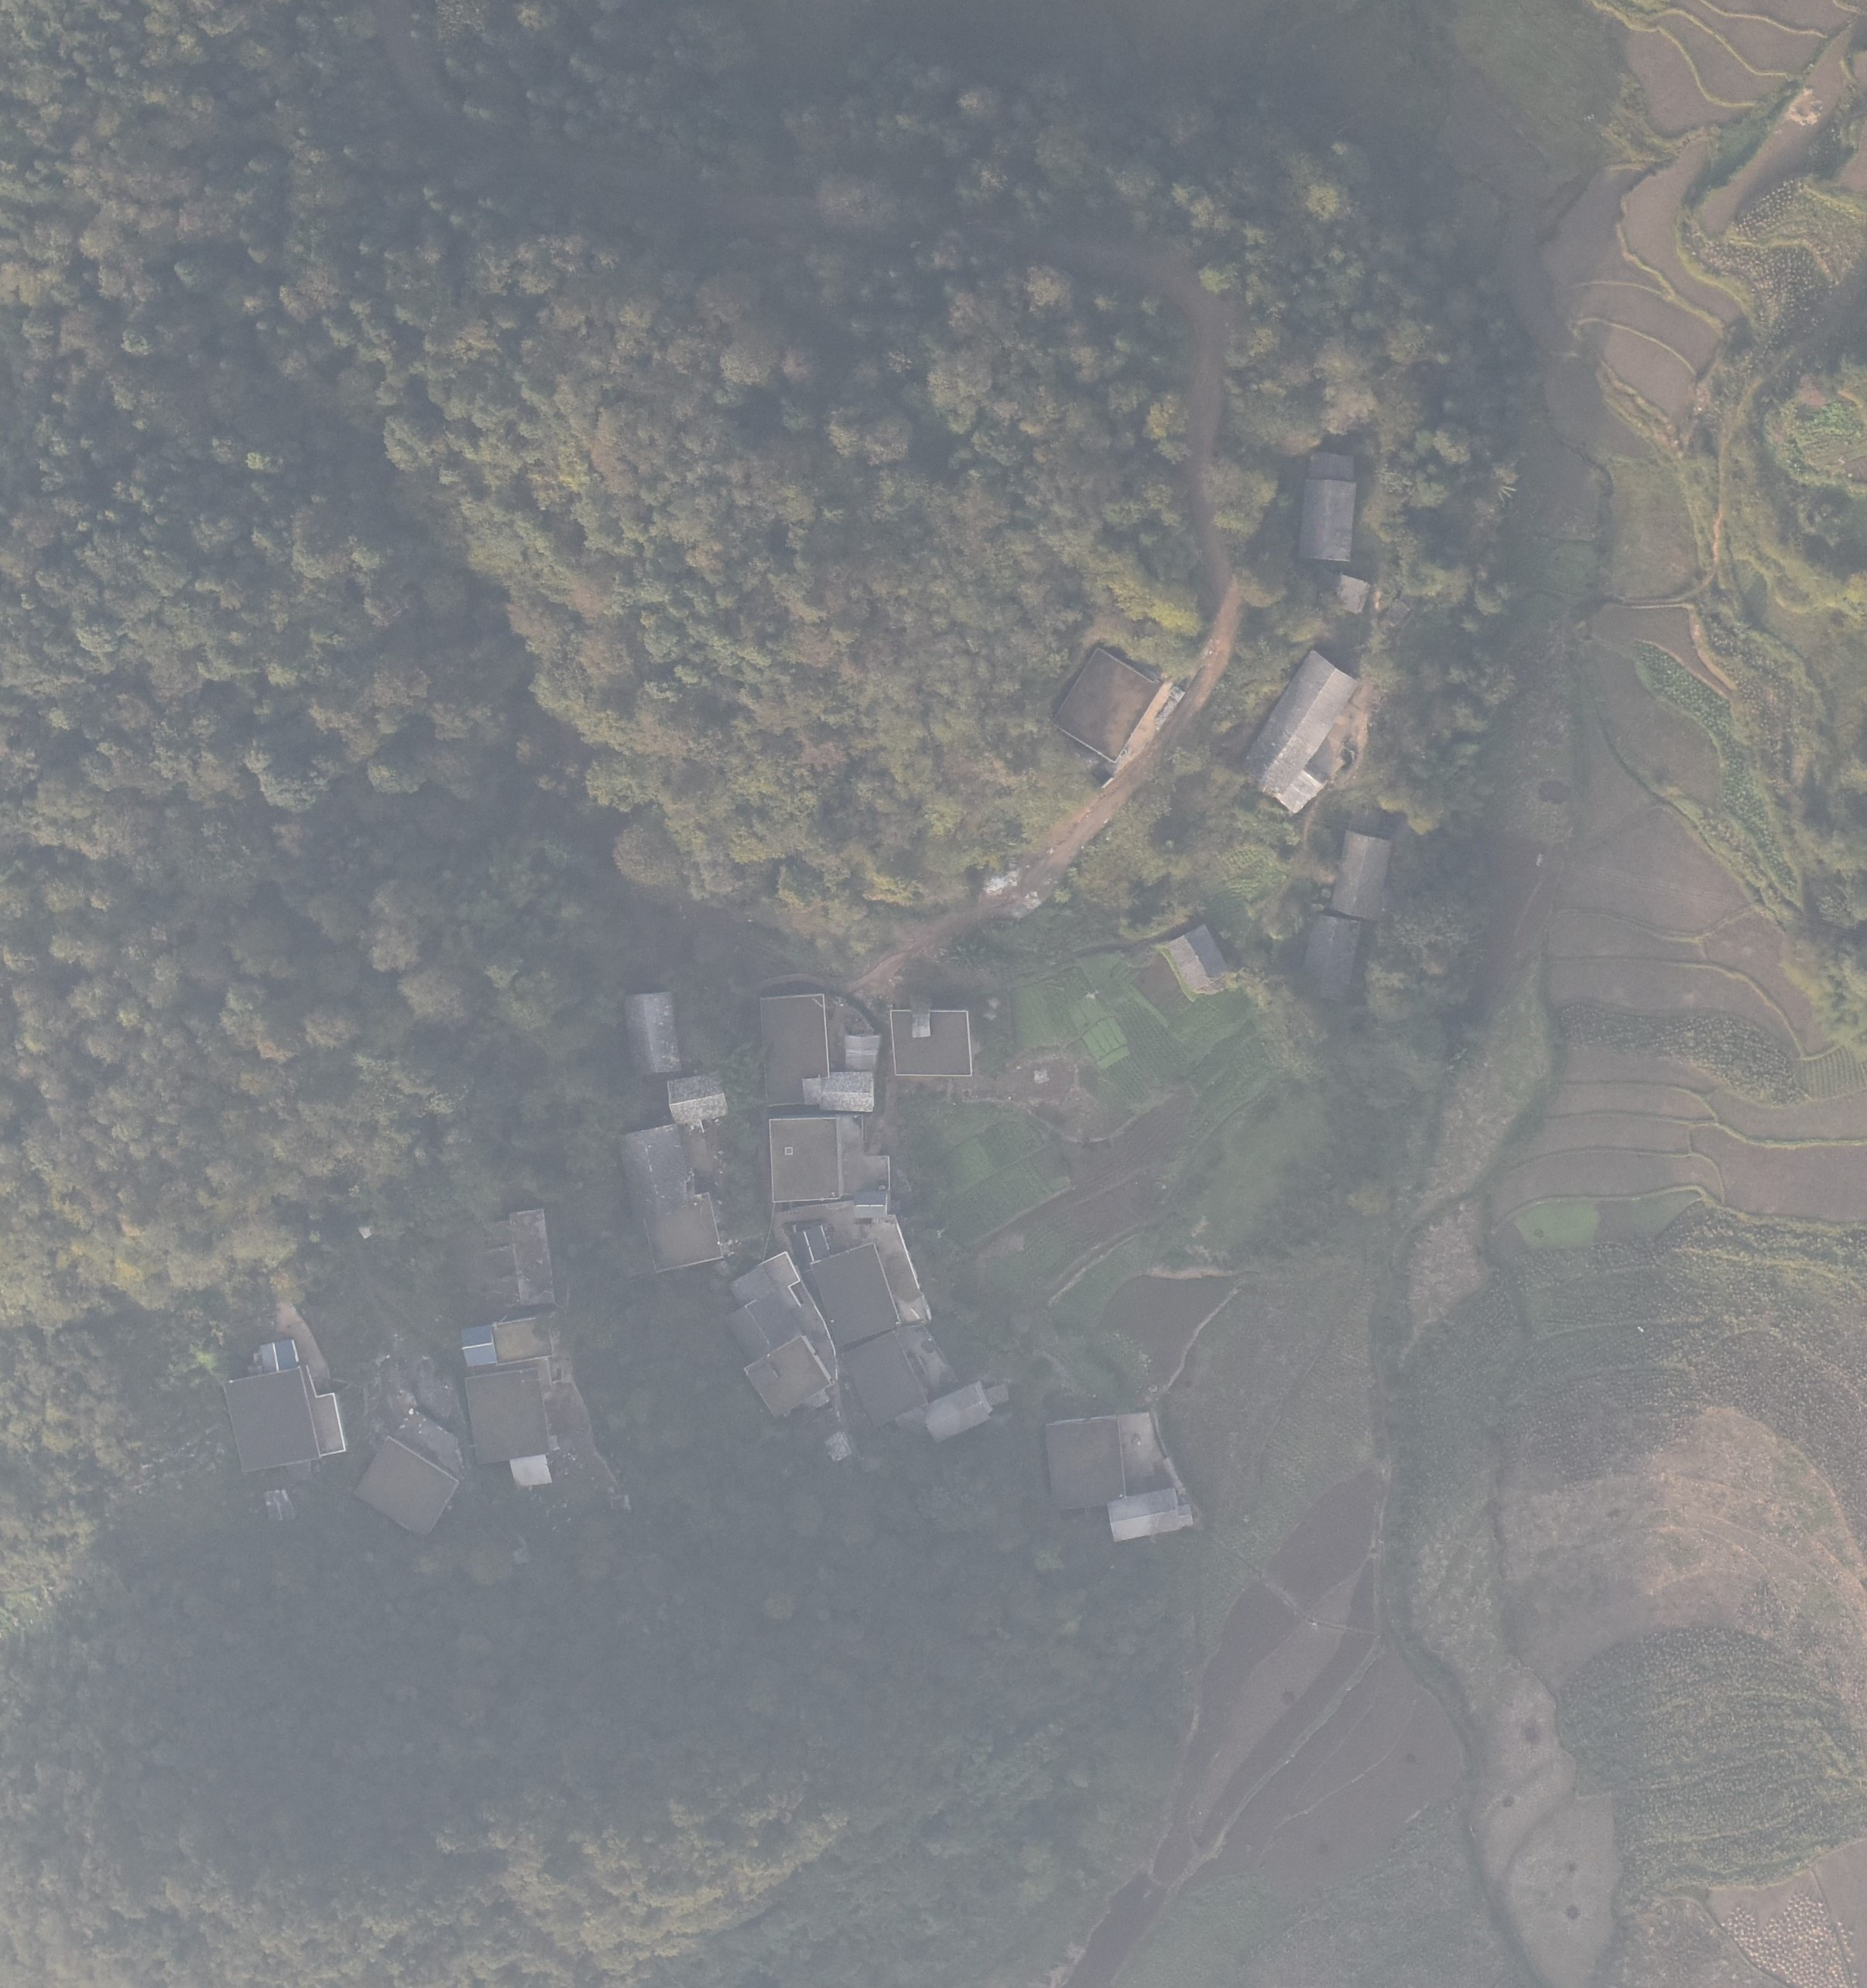building: (1238, 646, 1362, 799), (1044, 642, 1163, 769), (206, 1364, 324, 1475), (351, 1432, 460, 1540), (752, 992, 833, 1117), (459, 1367, 559, 1467), (809, 1240, 900, 1346), (1042, 1416, 1129, 1516), (632, 1188, 731, 1276), (840, 1329, 927, 1426), (615, 1123, 702, 1216), (765, 1112, 844, 1206), (741, 1340, 834, 1420), (505, 1206, 573, 1315), (1322, 826, 1396, 922), (887, 1007, 974, 1083), (618, 986, 685, 1081), (724, 1292, 805, 1362), (1300, 477, 1363, 566), (1297, 914, 1365, 997), (1102, 1483, 1184, 1547), (923, 1377, 992, 1445), (1160, 922, 1221, 991), (664, 1071, 735, 1128), (819, 1069, 879, 1121), (457, 1320, 506, 1381), (1300, 447, 1362, 491), (1273, 768, 1327, 812), (721, 1268, 776, 1309), (838, 1032, 883, 1074), (255, 1336, 305, 1372), (1332, 573, 1374, 614), (791, 1223, 831, 1265), (508, 1456, 555, 1490), (850, 1189, 896, 1219)
